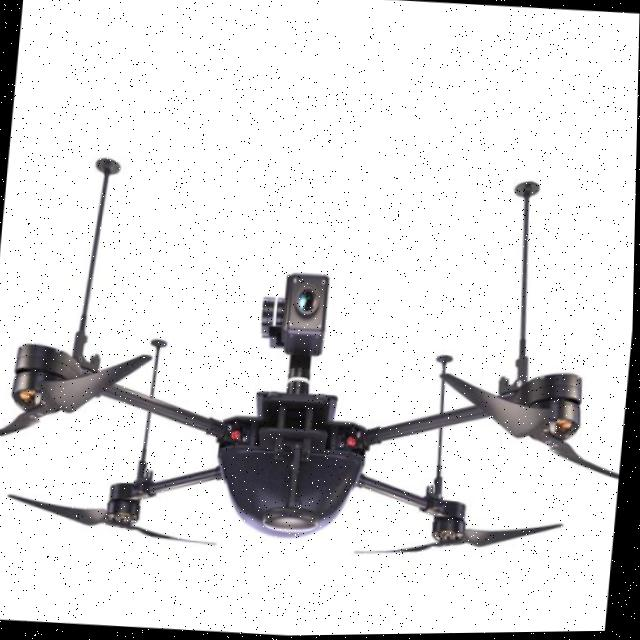drones: (0, 72, 639, 600)
